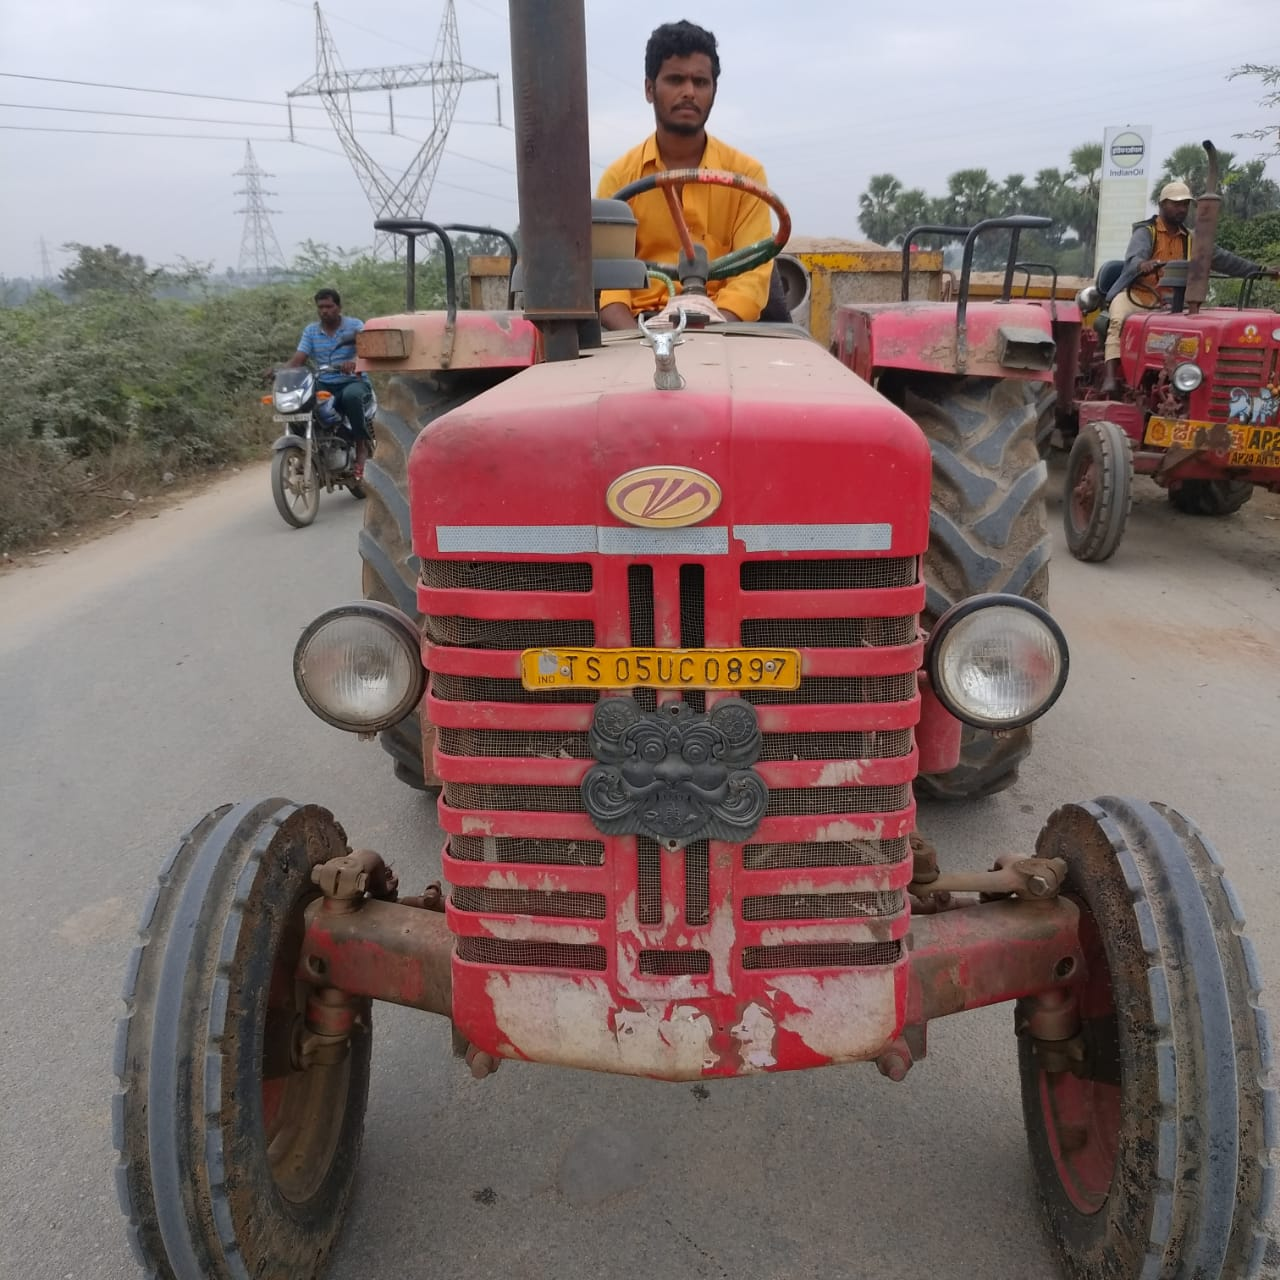num_plate: (519, 648, 803, 694)
